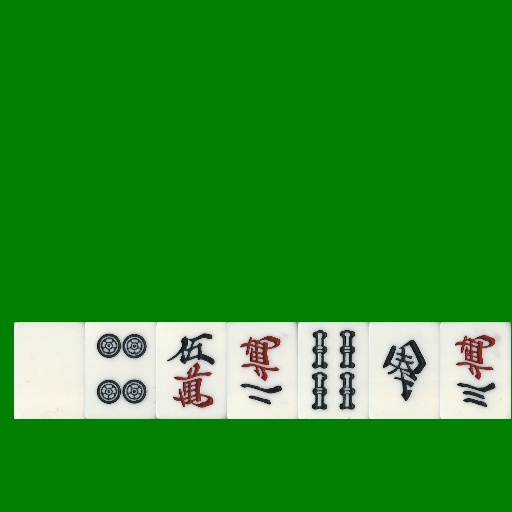2m: (227, 322, 298, 419)
3m: (440, 322, 511, 419)
4p: (85, 322, 156, 419)
4s: (298, 322, 369, 419)
5m: (156, 322, 227, 419)
south: (369, 322, 440, 419)
white: (14, 322, 85, 419)
